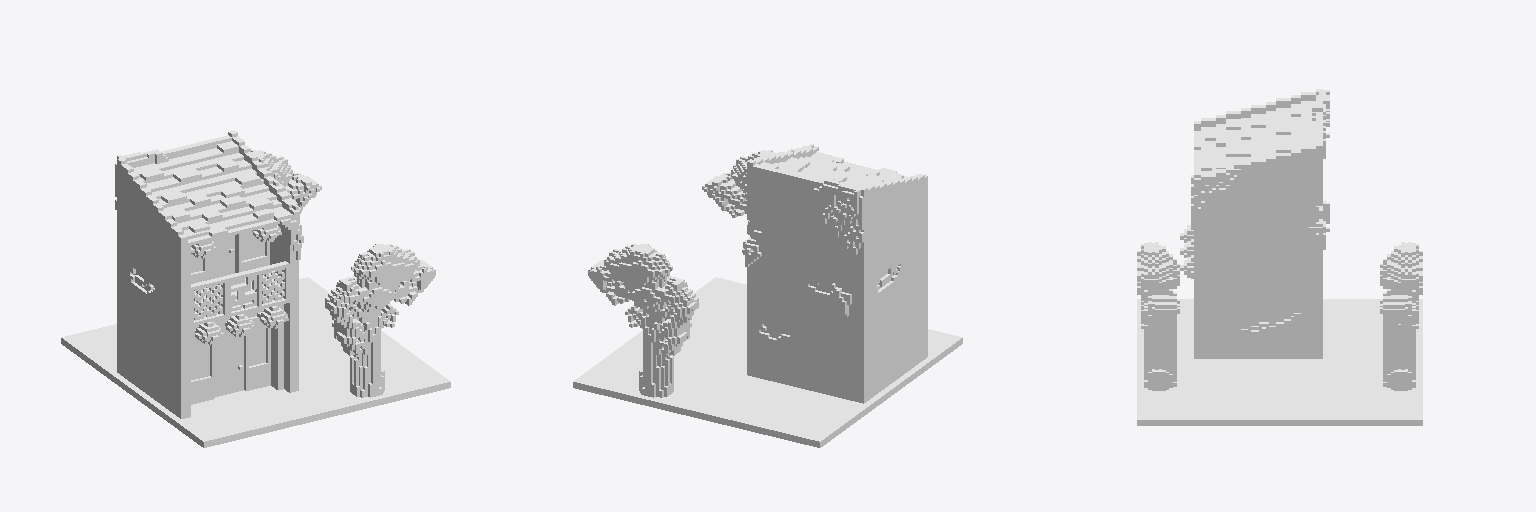
Rendered from HoiAnHouse2.obj.
3 views of the same model, side by side, from view 1: azimuth 30°, elevation 25°; view 2: azimuth 150°, elevation 25°; view 3: azimuth 270°, elevation 25° (orthographic).
Parts seen in each view (by area): view 1: HoiAnHouse2; view 2: HoiAnHouse2; view 3: HoiAnHouse2.
Part boxes in pixels (bbox=[...]): HoiAnHouse2: bbox=[61, 130, 450, 447]; HoiAnHouse2: bbox=[573, 144, 962, 447]; HoiAnHouse2: bbox=[1137, 89, 1422, 425].
Bounding box in the file's own units: 80 × 68 × 80.